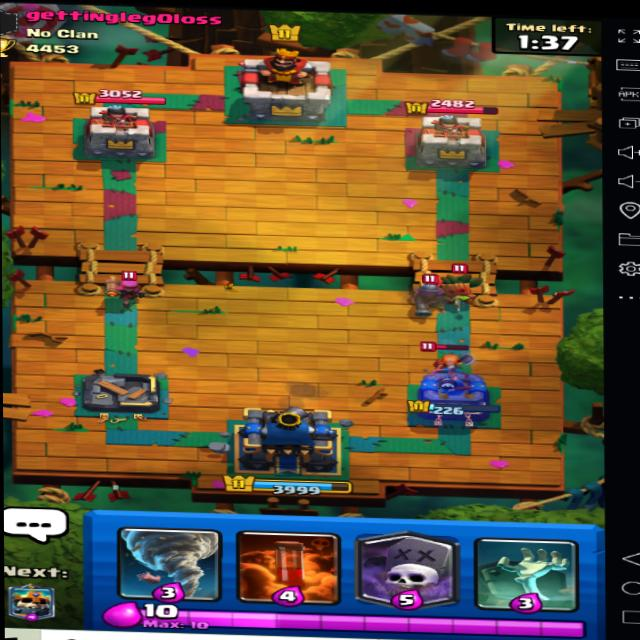dart-goblin: (438, 262, 491, 307)
firecracker: (93, 258, 150, 303)
musketeer: (413, 272, 454, 317)
valkyrie: (427, 340, 472, 374)
